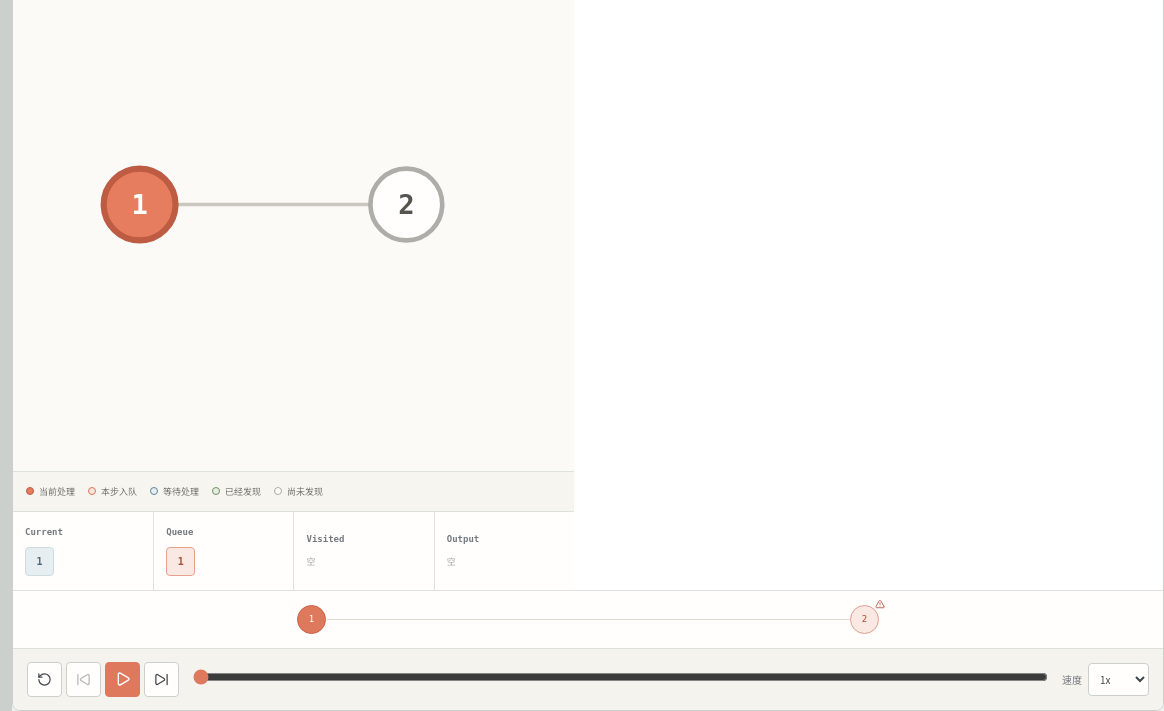
Test: AlgorithmTracePlayer › synchronizes the summary, code, graph state, state dock, and timeline
(page scrolled)
Expected: the element named "当前队列" shows "1", [178, 556, 184, 567]
Expected: the element named "已发现节点" shows "空", [306, 555, 316, 568]
Step 1. Click the button named "跳到第 2 步" → coordinates (864, 620), box [850, 605, 879, 634]
(page scrolled)
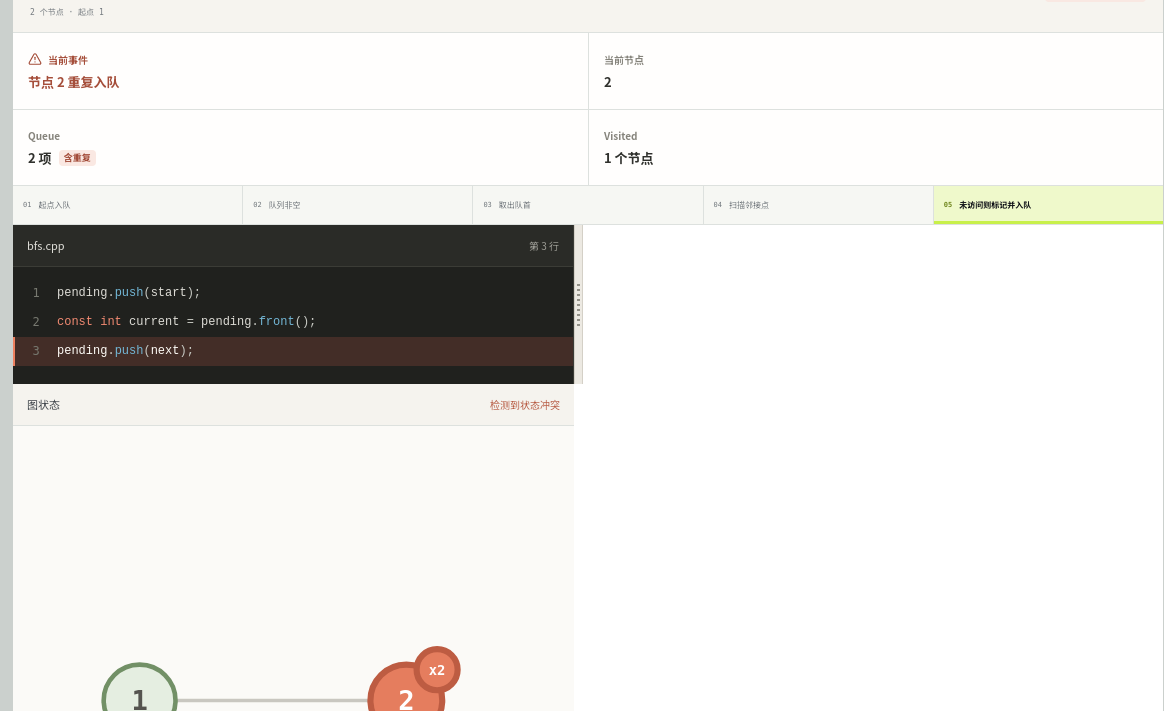
Expected: the field labelled "节点 2 在队列中出现 2 次" is shown, [429, 662, 446, 678]
Expected: the element named "执行摘要" shows "含重复", [64, 151, 91, 164]
